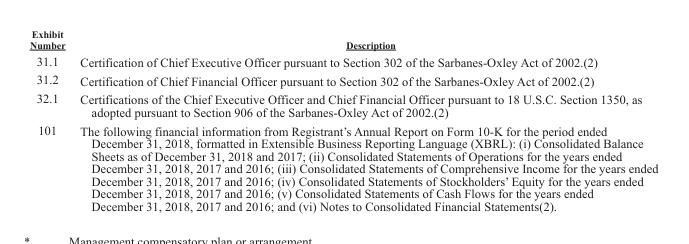table: (28, 28, 657, 212)
table column: (71, 28, 657, 212), (28, 28, 71, 212)
table column header: (28, 28, 657, 51)
table row: (28, 120, 657, 212), (28, 89, 657, 120), (28, 28, 657, 51), (28, 51, 657, 70), (28, 70, 657, 89)
